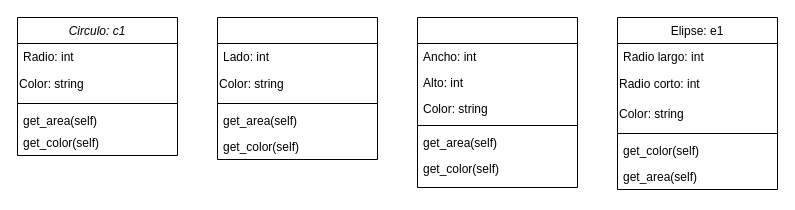
Some shapes in this 795 by 210 pixel diagram are drawn without their labels. The shapes that lost their labels are listed below. From the top down, each one's box as (x1, y1, x2, y2) in pixels, then its label:
(216, 16, 378, 160): Cuadrado: q1
(416, 16, 578, 188): Rectangulo: r1
